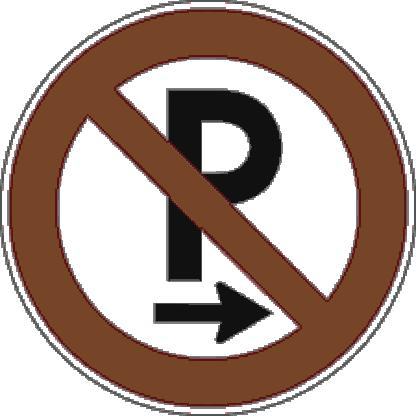No parking: (0, 3, 411, 414)
